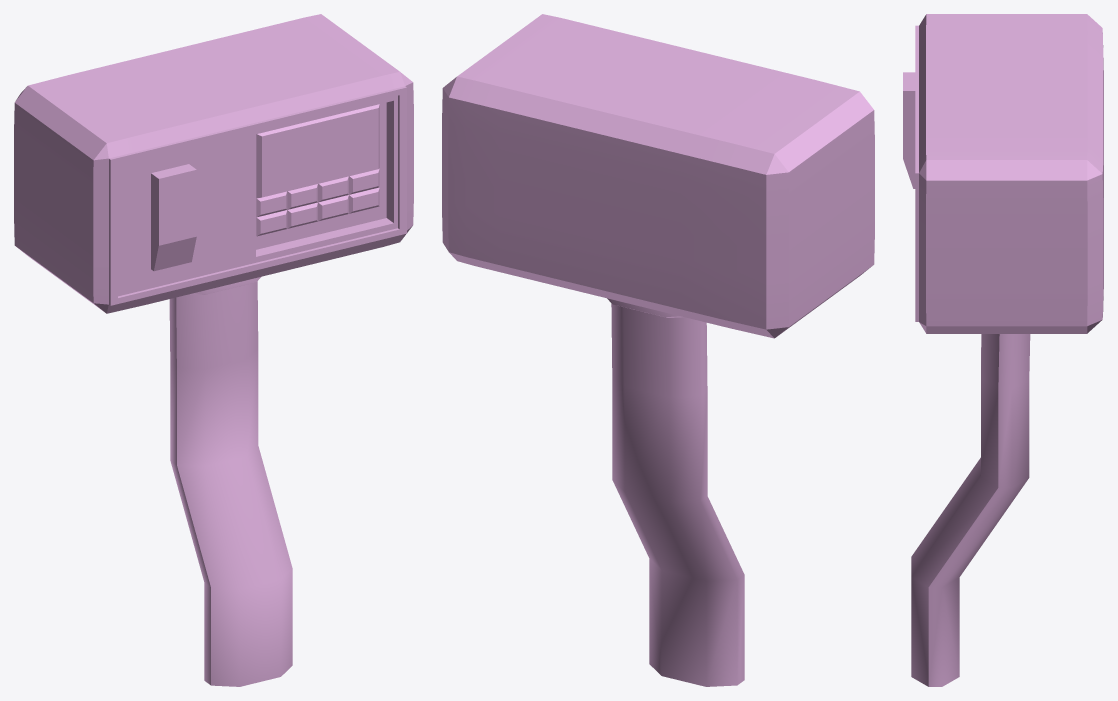
File: PortaPainel.fbx
3 renders of one model, left to right at view 1: azimuth 30°, elevation 25°; view 2: azimuth 150°, elevation 25°; view 3: azimuth 270°, elevation 25°, orthographic. The views are drawn at different scales.
Parts seen in each view (by area): view 1: PortaPainel; view 2: PortaPainel; view 3: PortaPainel.
Boxes of the visible parts, x1,y1,x2,y2 form: PortaPainel: (14,14,413,686); PortaPainel: (442,14,874,686); PortaPainel: (903,14,1103,686).
Bounding box in the file's own units: 12.88 × 21.85 × 6.85.
